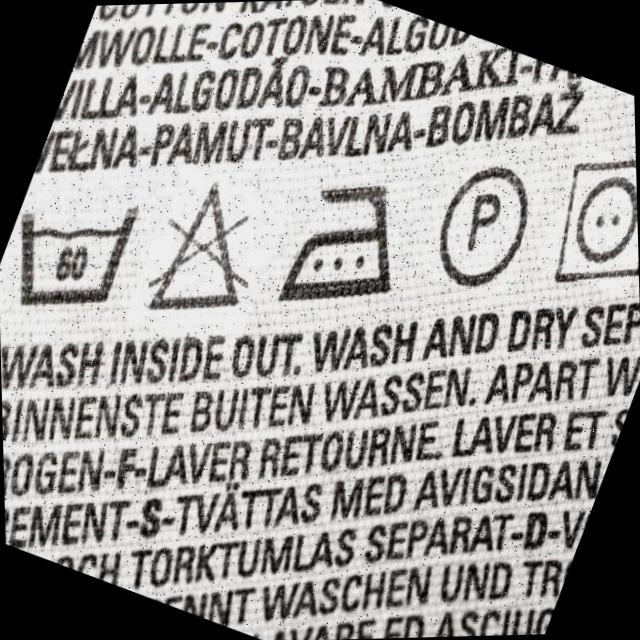60C: (10, 199, 144, 310)
DN_bleach: (146, 181, 250, 314)
dry_clean_any_solvent_except_trichloroethylene: (423, 161, 538, 293)
iron_high: (277, 179, 405, 306)
tumble_dry_medium: (556, 155, 639, 293)
